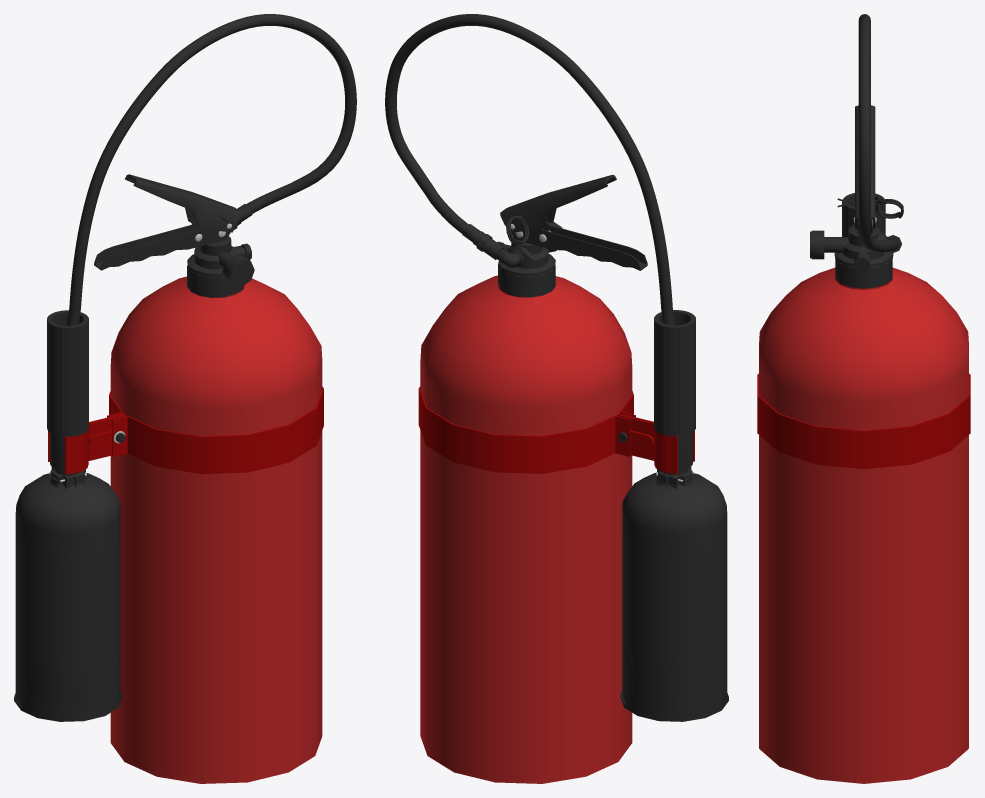
The model's file is extintor.fbx.
3 renders of one model, left to right at view 1: azimuth 30°, elevation 25°; view 2: azimuth 150°, elevation 25°; view 3: azimuth 270°, elevation 25°, orthographic.
Visible parts, largest first — view 1: base, tornillos_boquilla, Booleano_2, tornillos; view 2: base, tornillos_boquilla, Booleano_2, tornillos; view 3: base, Booleano_2, tornillos_boquilla.
Boxes of the visible parts, x1,y1,x2,y2 form: base: (14, 276, 323, 783); tornillos_boquilla: (47, 14, 356, 442); Booleano_2: (94, 174, 254, 297); tornillos: (49, 223, 231, 482); base: (418, 275, 728, 783); tornillos_boquilla: (385, 14, 695, 442); Booleano_2: (462, 174, 647, 297); tornillos: (510, 224, 694, 481); base: (757, 267, 970, 783); Booleano_2: (810, 105, 901, 288); tornillos_boquilla: (837, 14, 903, 252).
Size of the model in its own units: 284 by 577 by 154.
